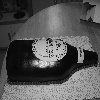beer: (6, 37, 100, 82)
